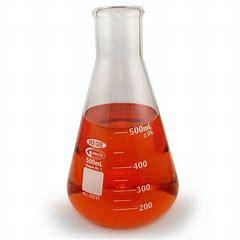Titrarion: (67, 9, 180, 225)
